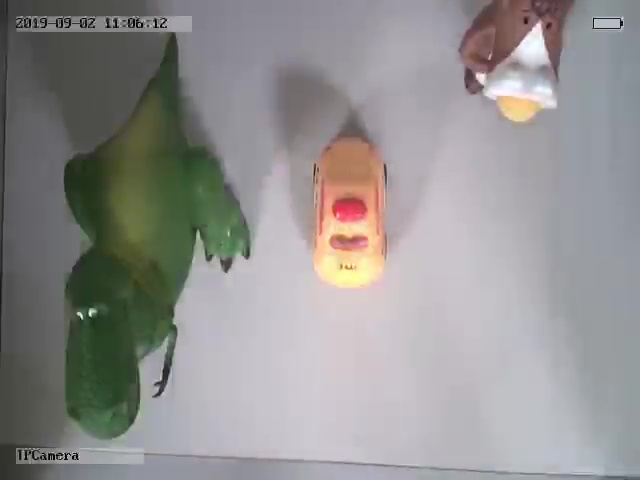car: (309, 133, 391, 289)
rex: (63, 62, 251, 440)
